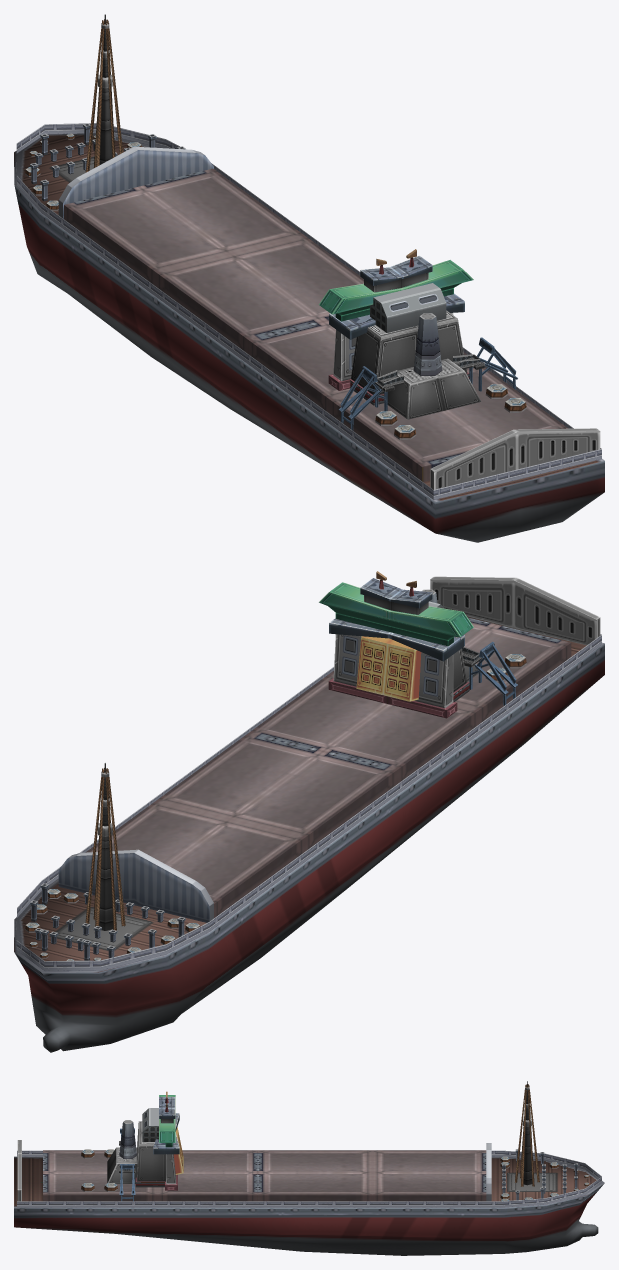
The model's file is Item_Cargoship.FBX.
3 views of the same model, one above another, from view 1: azimuth 30°, elevation 25°; view 2: azimuth 150°, elevation 25°; view 3: azimuth 270°, elevation 25° (orthographic). The views are drawn at different scales.
Visible parts, largest first — view 1: Item_Cargoship; view 2: Item_Cargoship; view 3: Item_Cargoship.
Boxes of the visible parts, left/top/right/bottom form: Item_Cargoship: left=14, top=14, right=604, bottom=542; Item_Cargoship: left=14, top=571, right=604, bottom=1052; Item_Cargoship: left=14, top=1081, right=604, bottom=1255.
Size of the model in its own units: 213 by 322 by 1037.
